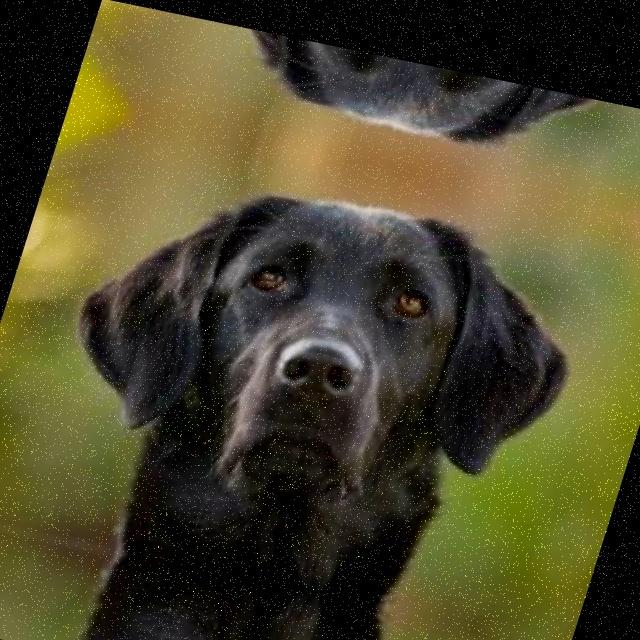dog: (23, 130, 622, 570), (138, 12, 640, 202), (0, 589, 477, 640)
